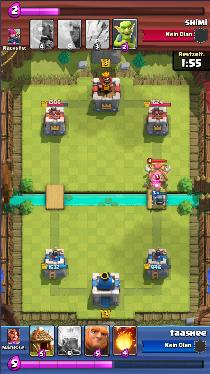ally_mini_pekka: (151, 192, 168, 206)
enemy_goblin_hut: (145, 164, 170, 187)
enemy_spear_goblin: (148, 185, 164, 194)
